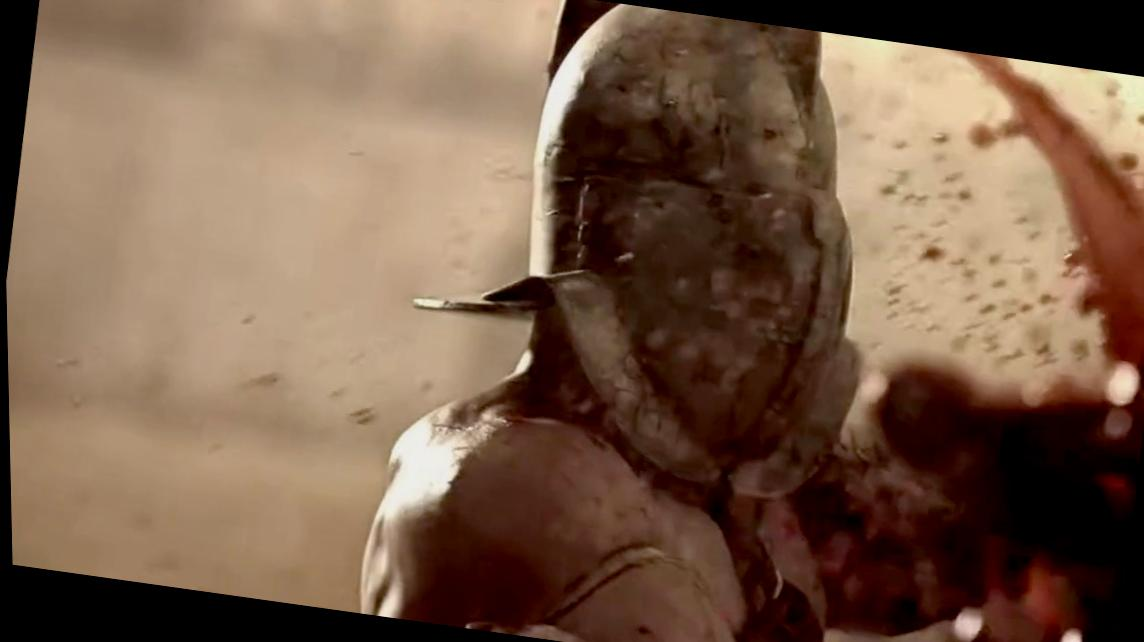Fire: (824, 32, 1144, 393)
